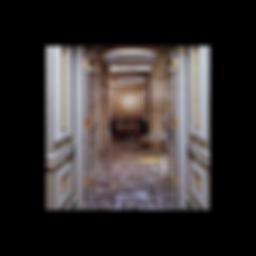Puerta: (79, 50, 98, 200), (164, 56, 178, 200)
